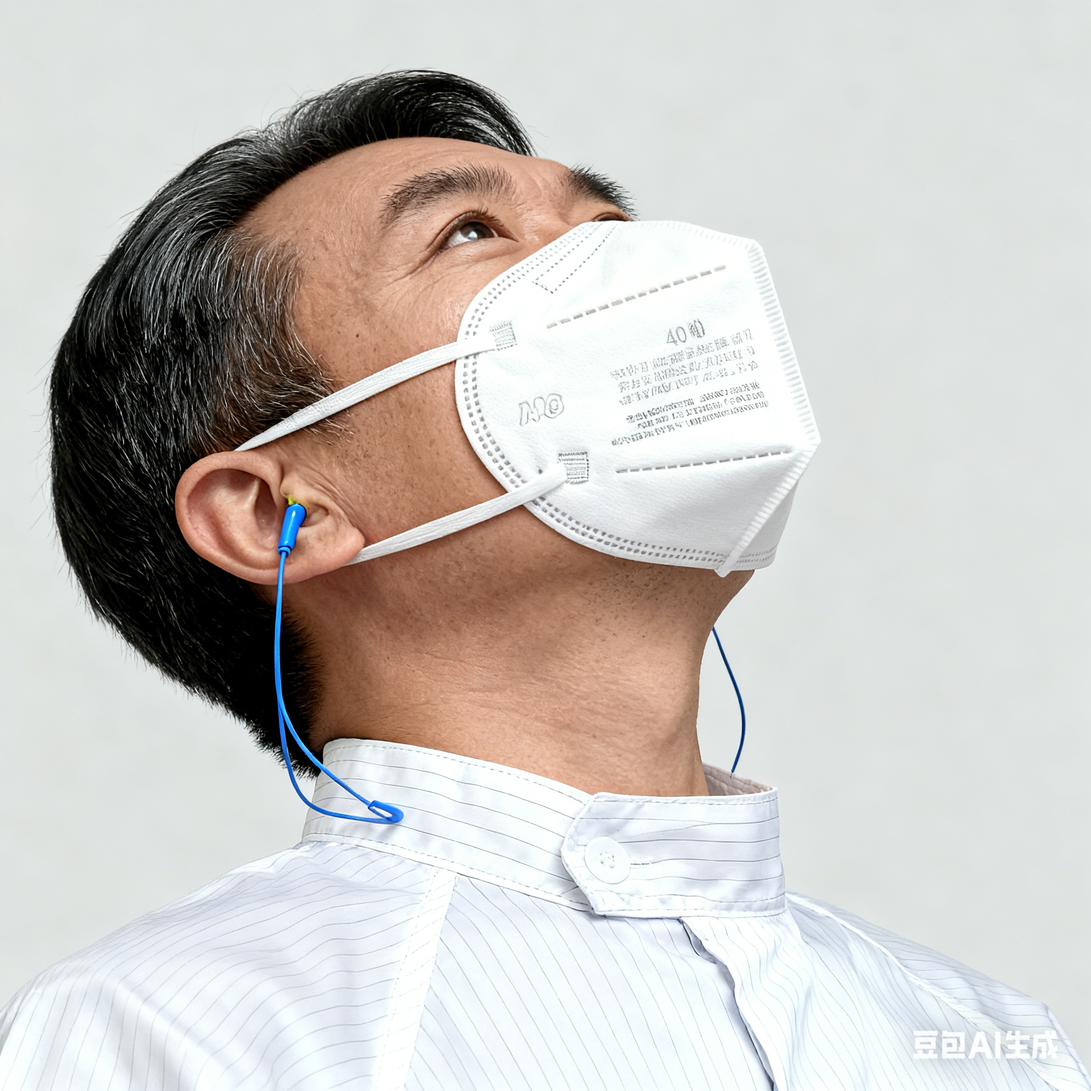MASK: (458, 222, 818, 574)
